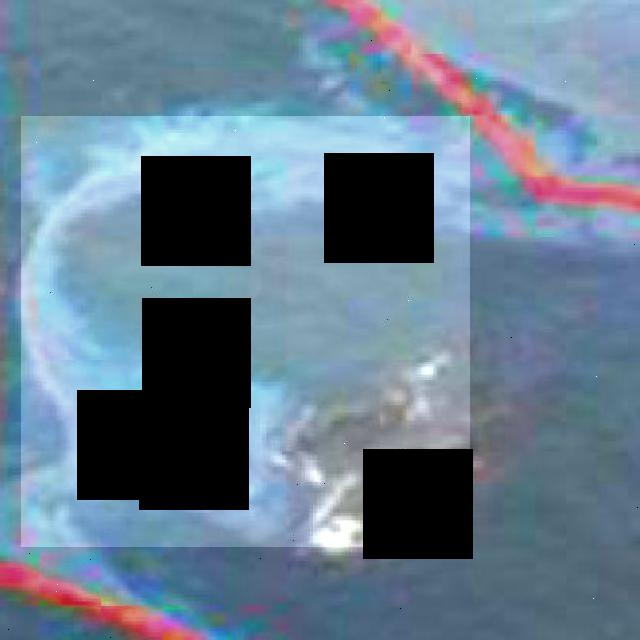oil spill: (22, 117, 470, 547)
